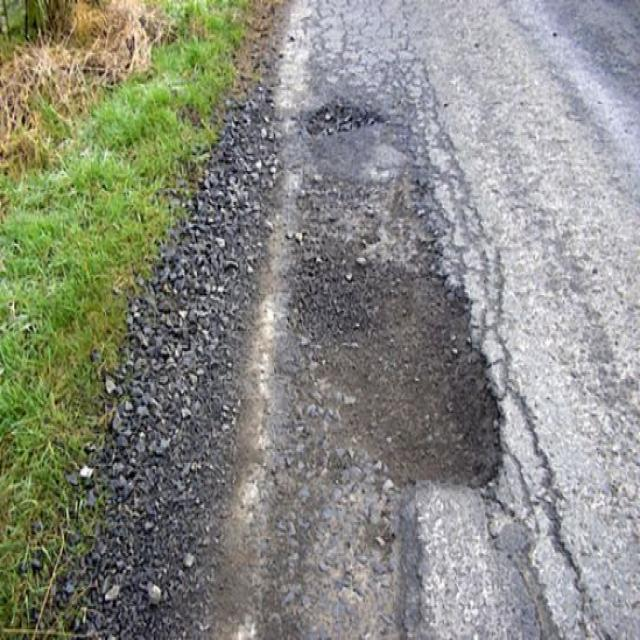pothole: (286, 240, 510, 492)
